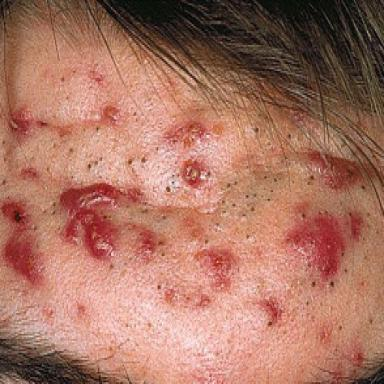acne: (60, 183, 140, 259), (287, 213, 345, 279), (1, 201, 44, 285), (307, 151, 361, 190), (195, 247, 239, 291), (164, 121, 206, 148), (181, 160, 210, 188), (258, 297, 283, 325), (135, 229, 157, 260), (8, 107, 31, 134), (101, 105, 120, 125), (349, 213, 363, 240), (355, 352, 363, 366)
